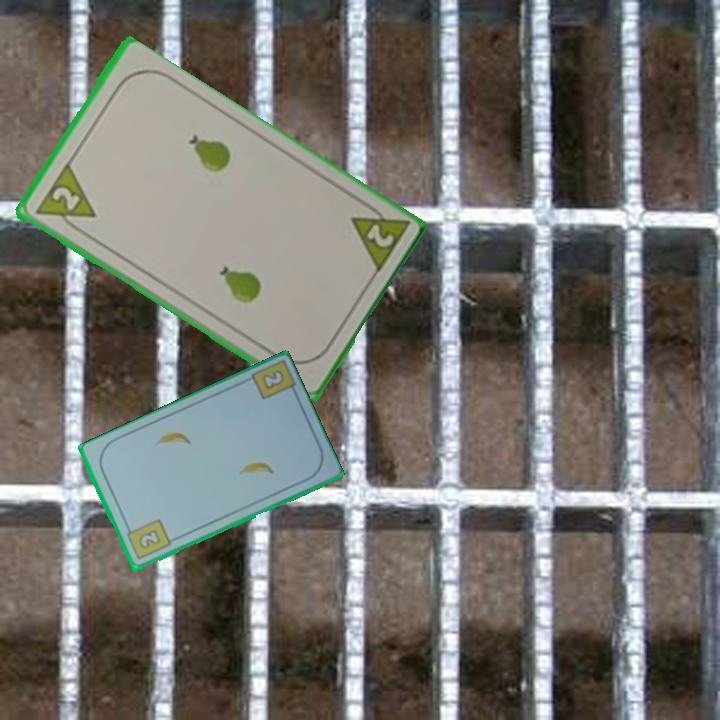2b: (122, 516, 173, 563), (258, 366, 287, 393)
2p: (346, 195, 411, 278), (30, 161, 98, 238)
